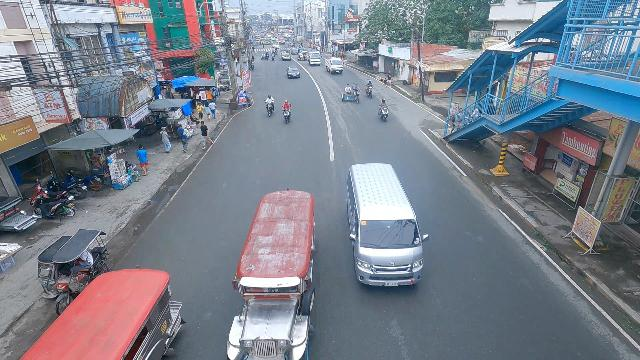car: (287, 64, 301, 78)
jeepney: (221, 185, 321, 360), (280, 49, 291, 61)
motorcycle: (342, 158, 430, 293), (377, 101, 390, 122), (281, 101, 292, 124), (264, 97, 275, 118), (364, 82, 375, 100), (271, 52, 276, 61)
truck: (325, 57, 343, 74), (307, 50, 322, 66)
